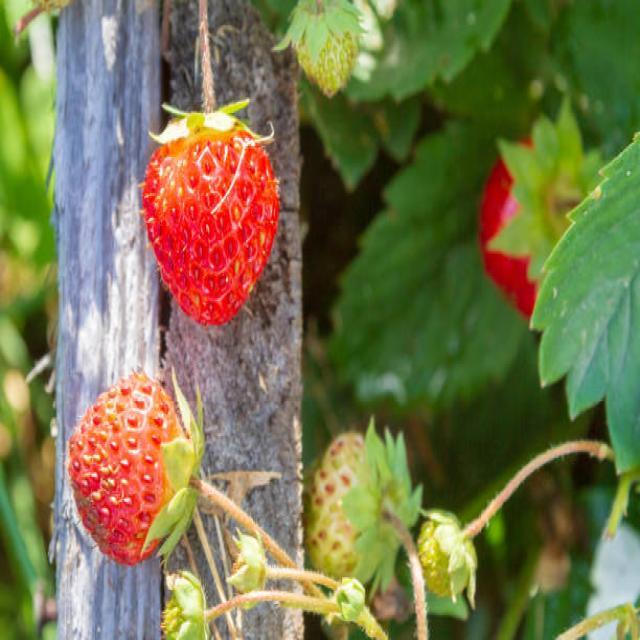Healthy Fruit: (142, 124, 278, 322), (69, 374, 178, 566)
